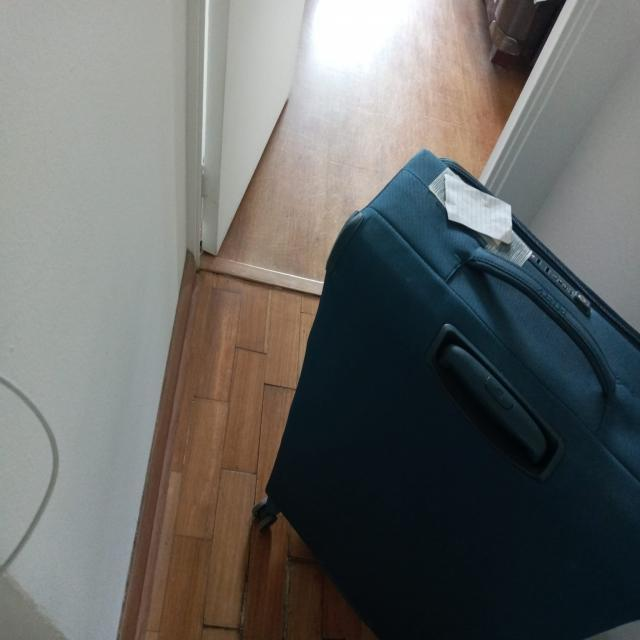Suitcase: (254, 147, 639, 640)
